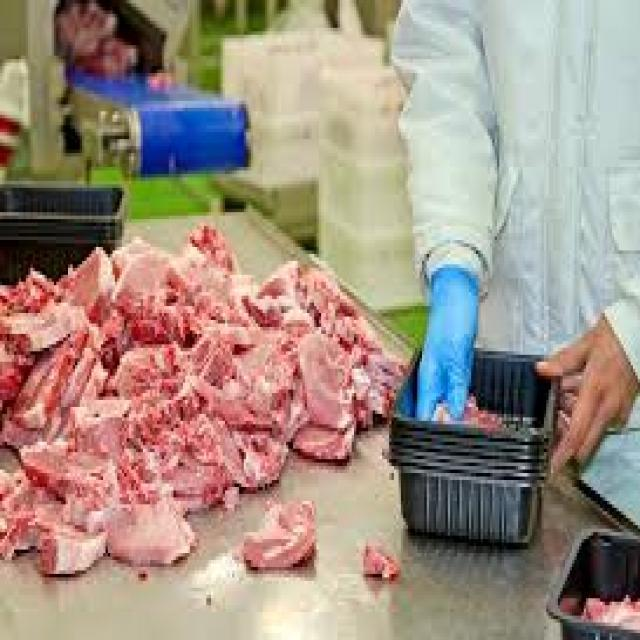Wet: (1, 253, 402, 616)
